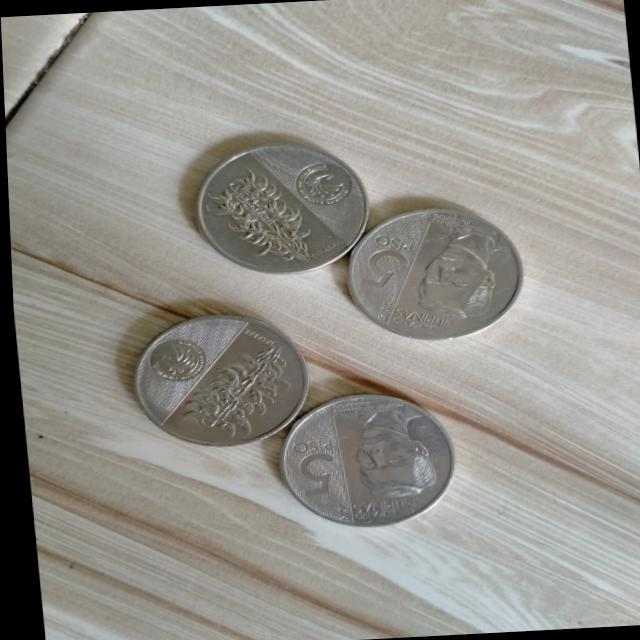5_New_Back: (169, 334, 293, 447), (195, 160, 318, 273)
5_New_Front: (340, 223, 424, 295), (273, 427, 350, 505)
